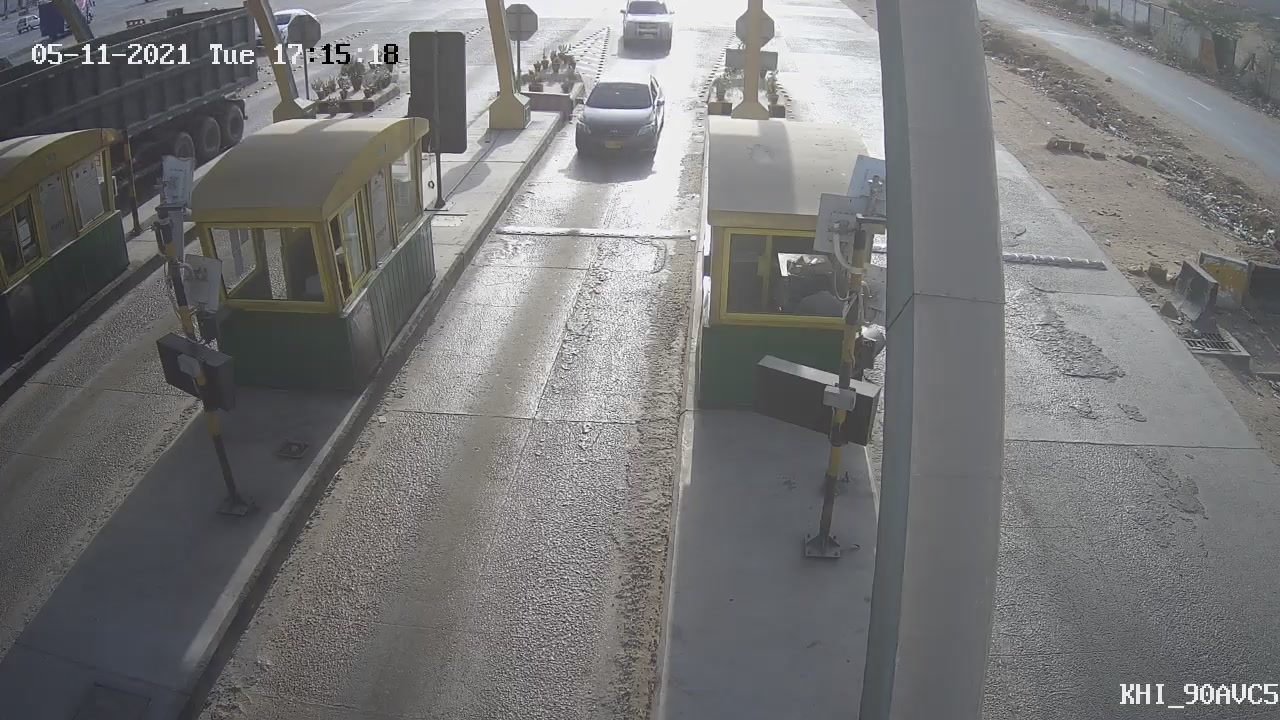F1: (546, 56, 678, 179)
